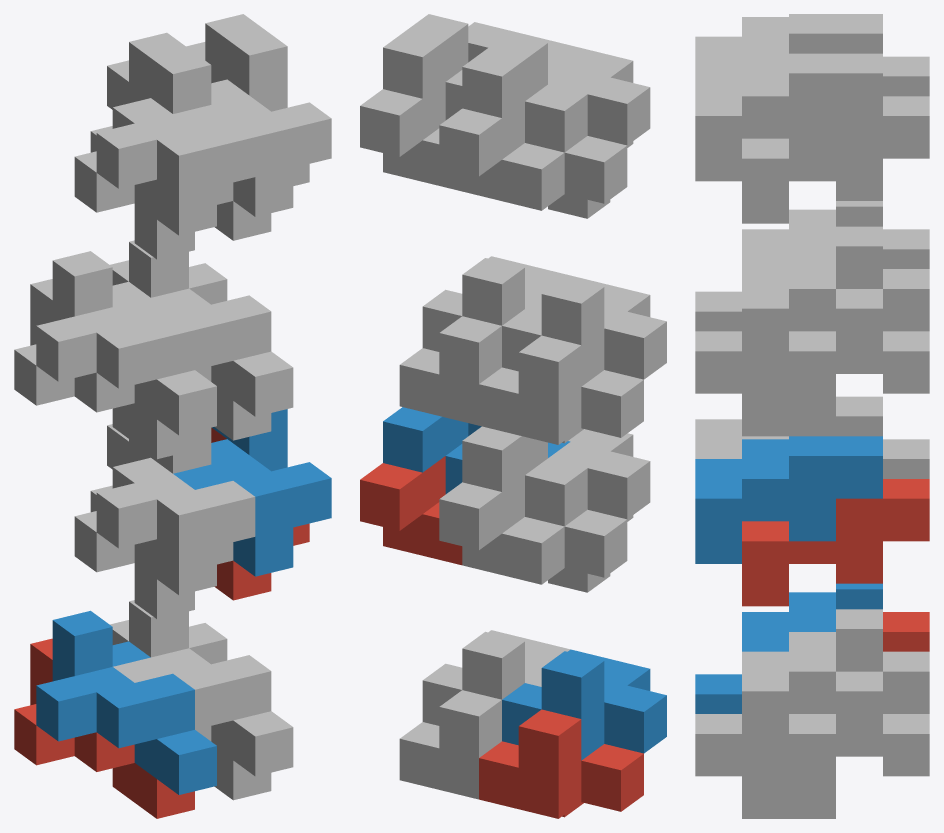
File: tiling.obj
3 renders of one model, left to right at view 1: azimuth 30°, elevation 25°; view 2: azimuth 150°, elevation 25°; view 3: azimuth 270°, elevation 25°, orthographic. The views are drawn at different scales.
Visible parts, largest first — view 1: copy_2_domain_4, copy_1_domain_4, copy_1_domain_2, copy_2_domain_8, copy_2_domain_2, copy_1_domain_8, copy_1_domain_6, copy_2_domain_6, copy_1_domain_1, copy_1_domain_3, copy_2_domain_3, copy_2_domain_1 (+4 smaller); view 2: copy_2_domain_4, copy_2_domain_3, copy_2_domain_1, copy_2_domain_2, copy_1_domain_1, copy_1_domain_3, copy_1_domain_4, copy_1_domain_2, copy_1_domain_5, copy_1_domain_7, copy_2_domain_8, copy_2_domain_7 (+4 smaller); view 3: copy_1_domain_8, copy_1_domain_6, copy_2_domain_8, copy_2_domain_6, copy_1_domain_7, copy_1_domain_5, copy_2_domain_5, copy_2_domain_7, copy_2_domain_4, copy_1_domain_4, copy_1_domain_2, copy_2_domain_2 (+4 smaller).
Part boxes in pixels (x1,y1,x2,y2): copy_2_domain_4: (96, 32, 255, 235); copy_1_domain_4: (36, 251, 216, 435); copy_1_domain_2: (36, 610, 216, 794); copy_2_domain_8: (173, 14, 331, 216); copy_2_domain_2: (96, 427, 255, 595); copy_1_domain_8: (113, 240, 293, 416); copy_1_domain_6: (113, 600, 293, 776); copy_2_domain_6: (173, 409, 331, 576); copy_1_domain_1: (14, 638, 194, 818); copy_1_domain_3: (14, 279, 194, 459); copy_2_domain_3: (74, 60, 233, 259); copy_2_domain_1: (74, 424, 233, 618); copy_2_domain_4: (462, 33, 650, 152); copy_2_domain_3: (439, 101, 627, 218); copy_2_domain_1: (439, 475, 627, 592); copy_2_domain_2: (462, 426, 650, 526); copy_1_domain_1: (479, 709, 643, 818); copy_1_domain_3: (479, 335, 643, 444); copy_1_domain_4: (502, 275, 666, 386); copy_1_domain_2: (502, 649, 666, 760); copy_1_domain_5: (399, 690, 501, 799); copy_1_domain_7: (399, 316, 501, 425); copy_2_domain_8: (383, 14, 570, 120); copy_2_domain_7: (360, 82, 462, 191); copy_1_domain_8: (695, 226, 882, 393); copy_1_domain_6: (695, 609, 882, 776); copy_2_domain_8: (695, 53, 882, 181); copy_2_domain_6: (695, 436, 882, 563); copy_1_domain_7: (742, 269, 929, 436); copy_1_domain_5: (742, 651, 929, 818); copy_2_domain_5: (742, 479, 929, 606); copy_2_domain_7: (742, 96, 929, 223); copy_2_domain_4: (695, 14, 882, 76); copy_1_domain_4: (695, 201, 882, 331); copy_1_domain_2: (695, 583, 882, 713); copy_2_domain_2: (695, 396, 882, 458).
Size of the model in its own units: 6 by 18 by 5.
